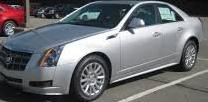Cars: (1, 3, 203, 102)
